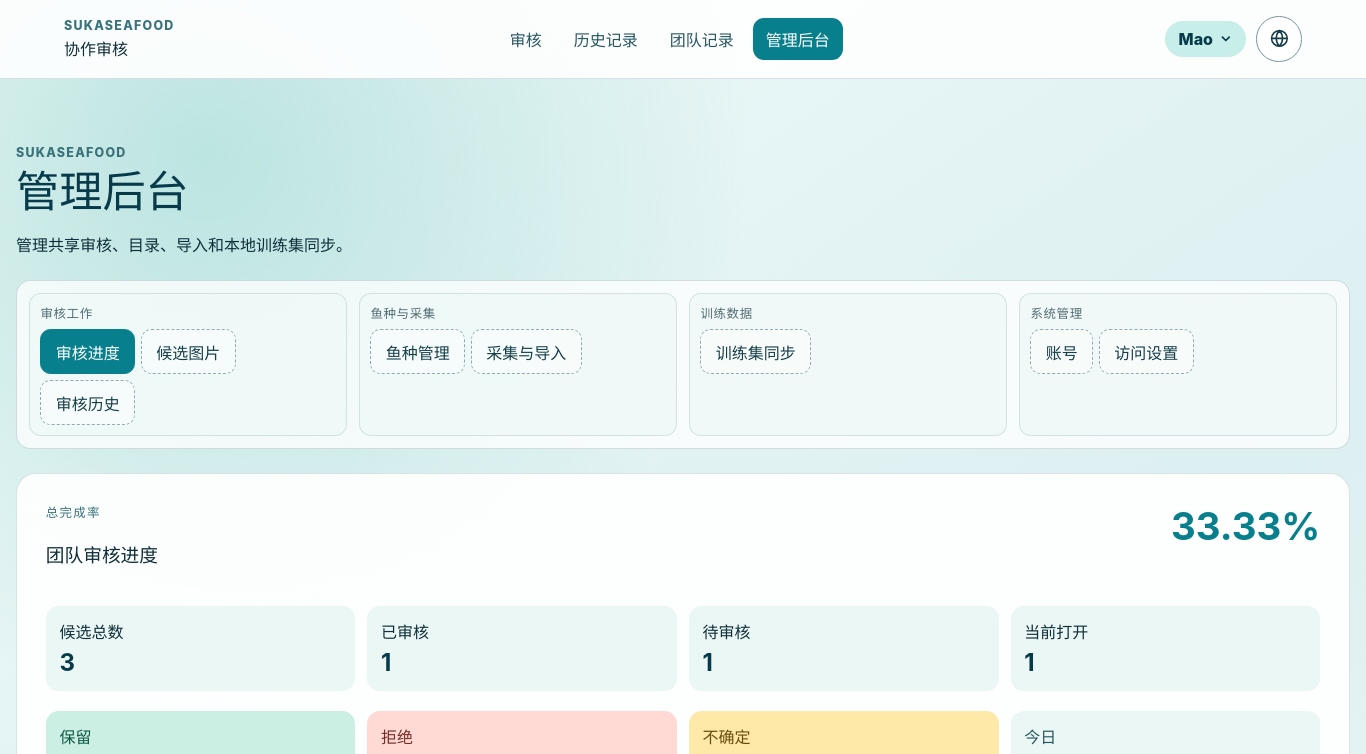
Test: blocks configuration download until at least one active species is available
The width and height of the screenshot is (1366, 754).
Click the tab "采集与导入" at (526,352), box [471,329,582,374]
(page scrolled)
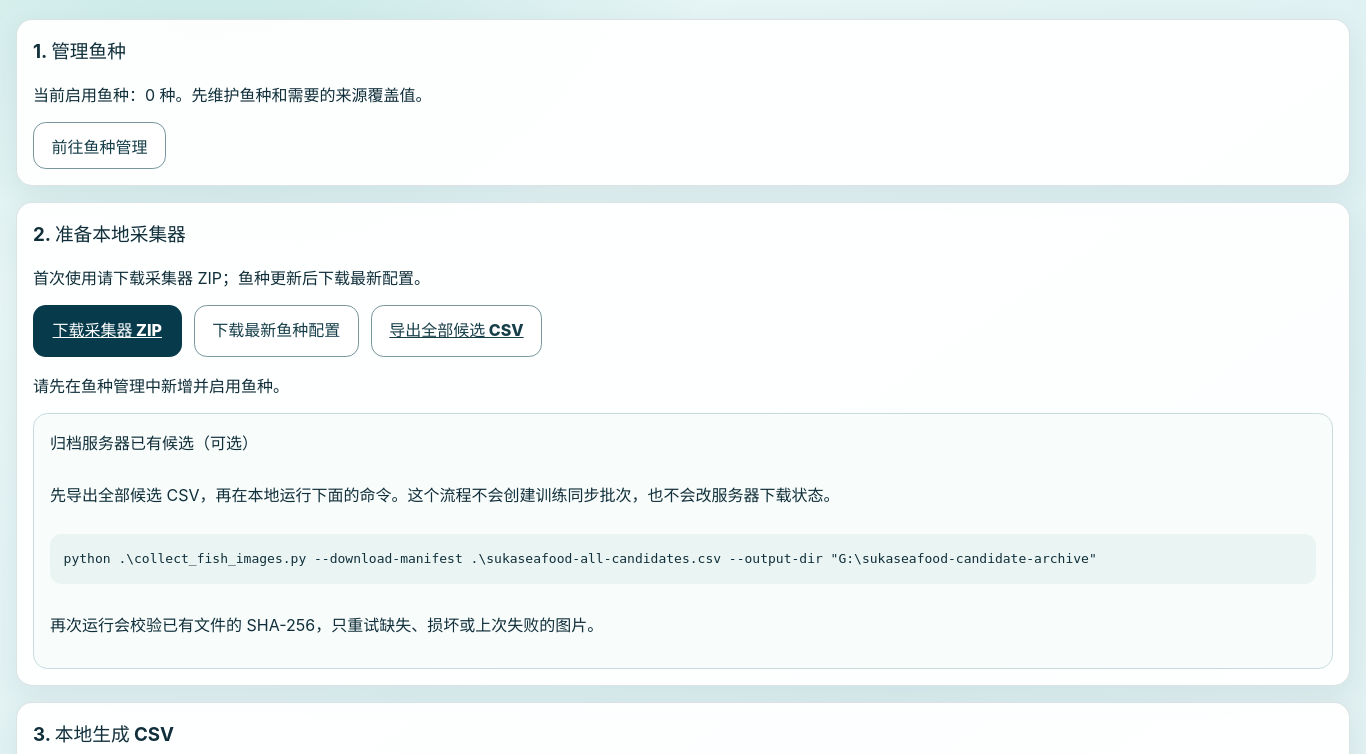
Expected: the button "下载最新鱼种配置" is disabled, [194,305,359,357]
Expected: the text "请先在鱼种管理中新增并启用鱼种。" is shown, [33,376,289,396]
